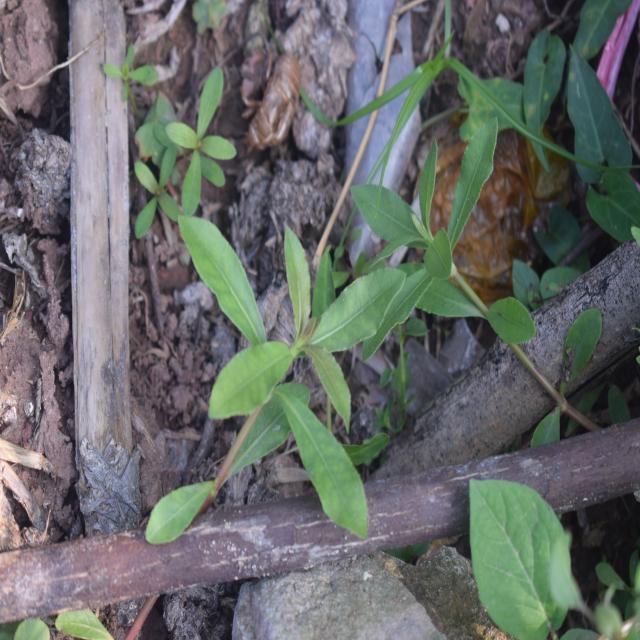Alligatorweed: (150, 184, 393, 538), (353, 124, 569, 389)
